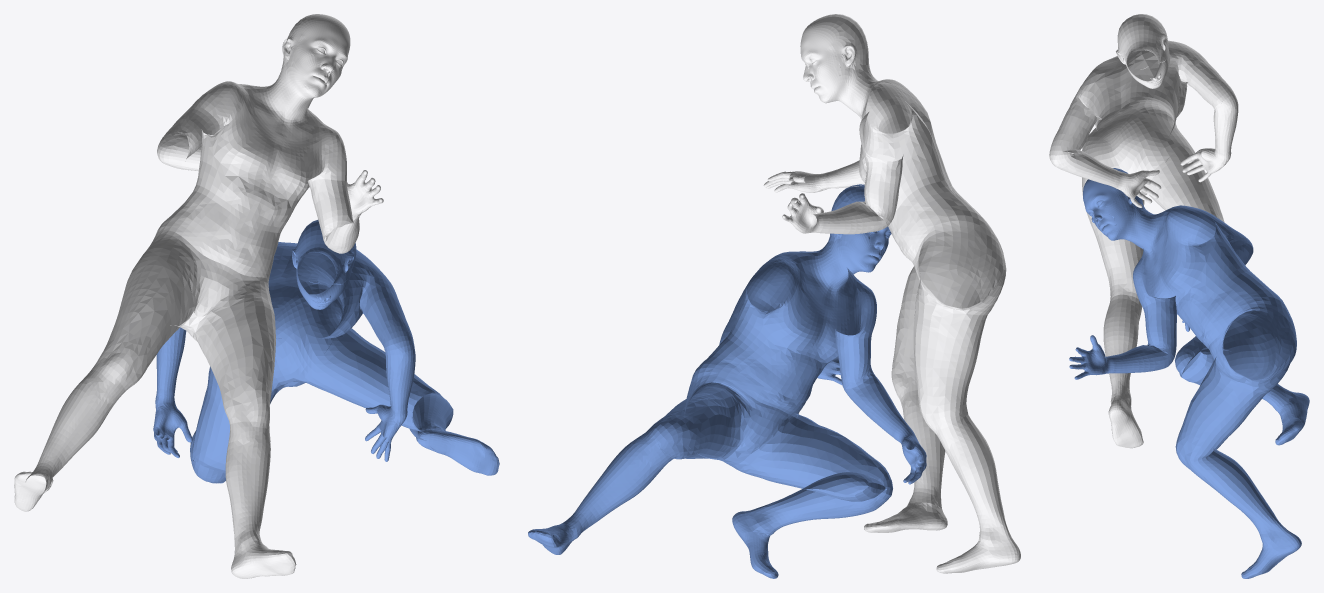
The model's file is double-leg-3-penetration-step.glb.
3 views of the same model, side by side, from view 1: azimuth 30°, elevation 25°; view 2: azimuth 150°, elevation 25°; view 3: azimuth 270°, elevation 25° (orthographic). The views are drawn at different scales.
Parts seen in each view (by area): view 1: p0, p1; view 2: p1, p0; view 3: p1, p0.
Boxes of the visible parts, left/top/right/bottom form: p0: left=14, top=14, right=383, bottom=578; p1: left=153, top=220, right=499, bottom=483; p1: left=528, top=184, right=926, bottom=578; p0: left=763, top=14, right=1020, bottom=573; p1: left=1069, top=168, right=1309, bottom=578; p0: left=1049, top=14, right=1238, bottom=448.
Bounding box in the file's own units: 1.53 × 1.66 × 0.8391.
